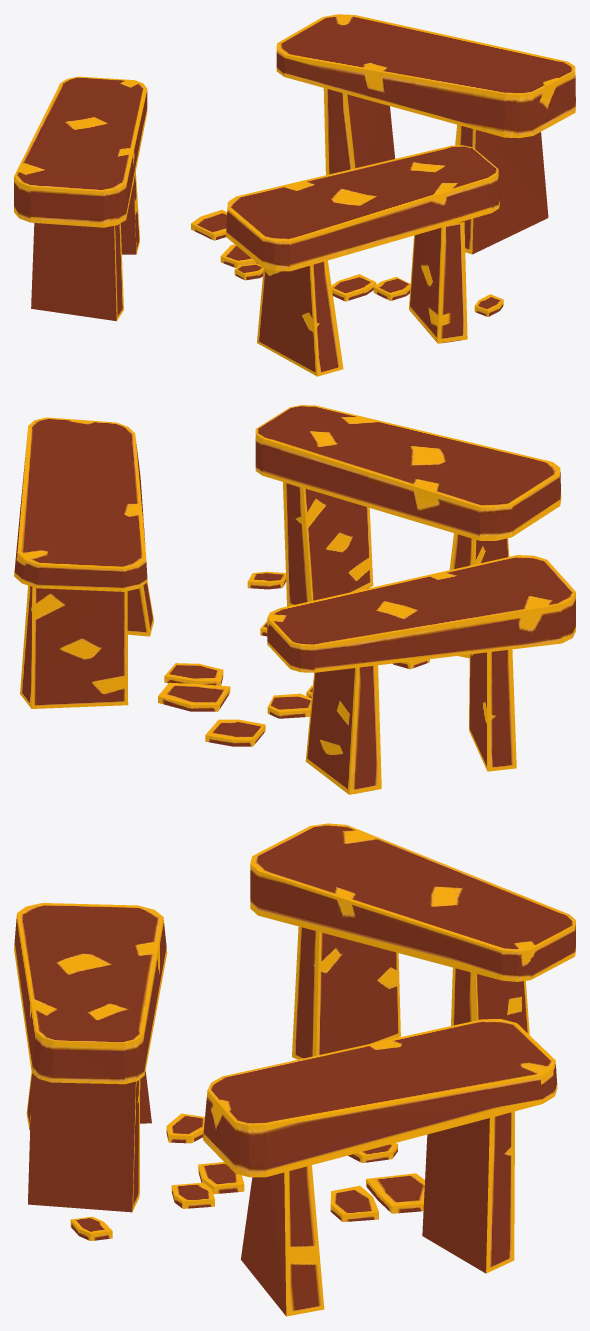
The model's file is Stonehenge.glb.
The picture shows the model from 3 angles, top to bottom: view 1: azimuth 30°, elevation 25°; view 2: azimuth 150°, elevation 25°; view 3: azimuth 270°, elevation 25°; orthographic projection. The views are drawn at different scales.
Parts seen in each view (by area): view 1: Stonehenge; view 2: Stonehenge; view 3: Stonehenge.
Boxes of the visible parts, left/top/right/bottom form: Stonehenge: left=14, top=14, right=575, bottom=376; Stonehenge: left=14, top=405, right=575, bottom=794; Stonehenge: left=14, top=823, right=575, bottom=1316.
Size of the model in its own units: 0.3744 by 0.1092 by 0.2803.
1 material, 1 textured.
